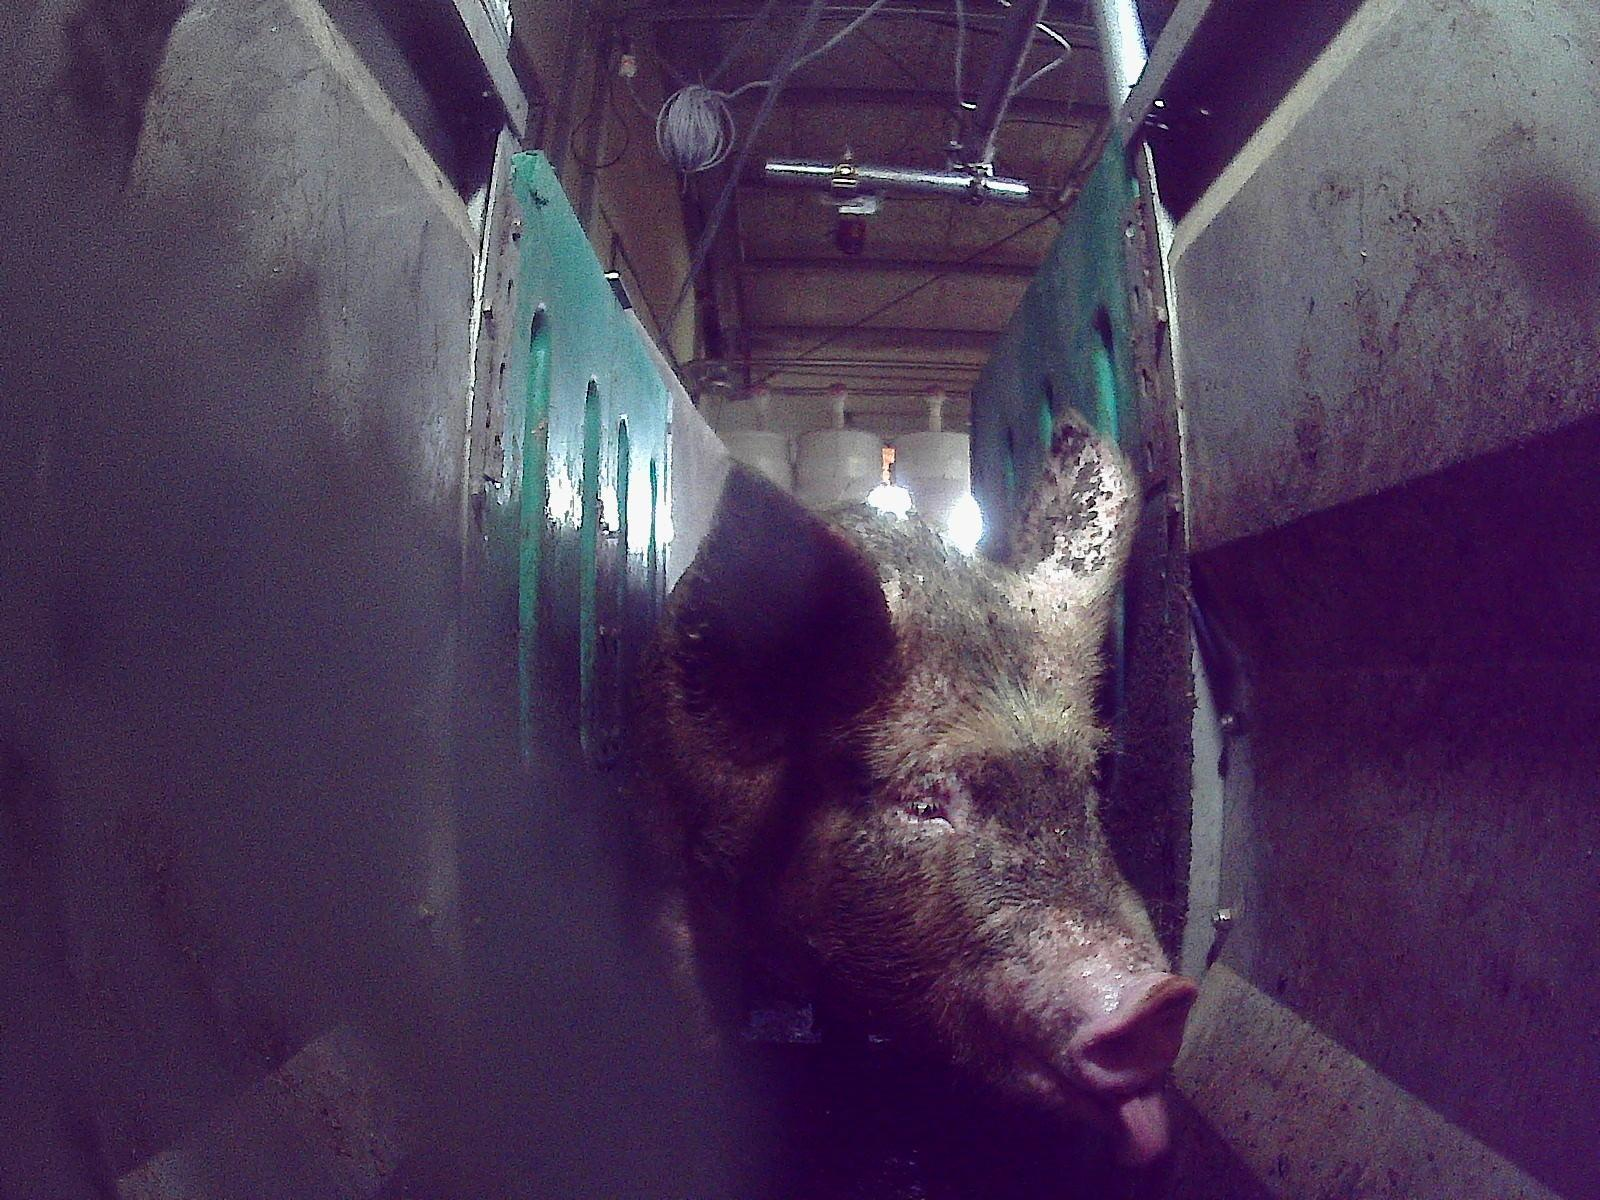Face: (711, 534, 1197, 1162)
